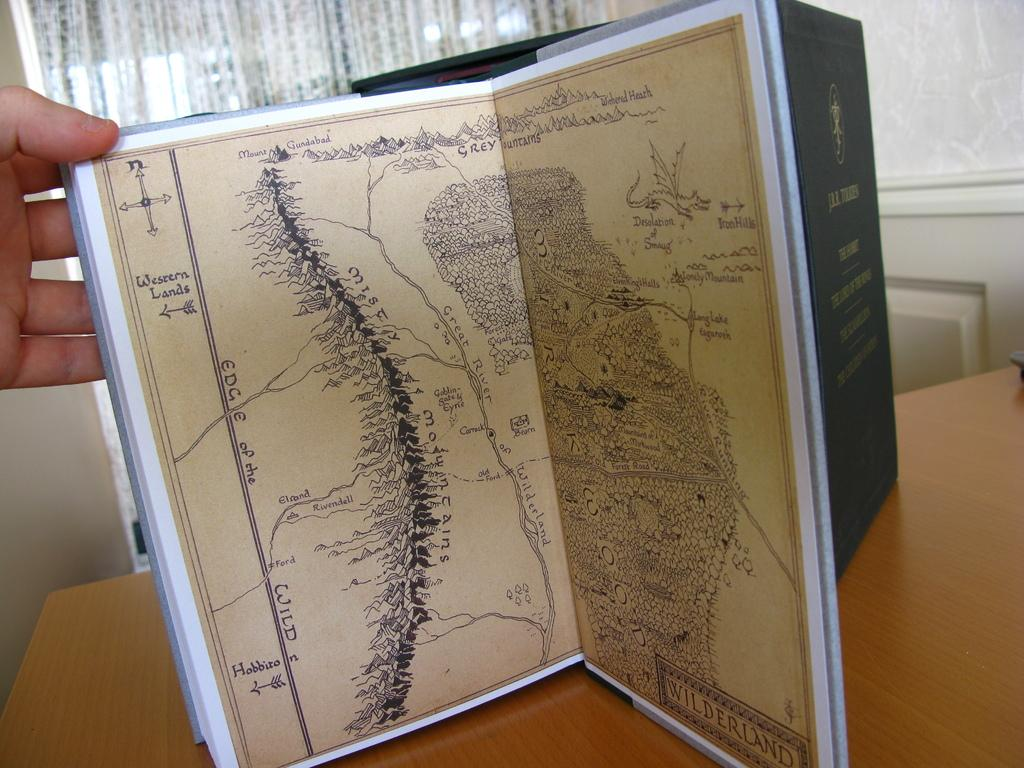book: (63, 49, 915, 747)
